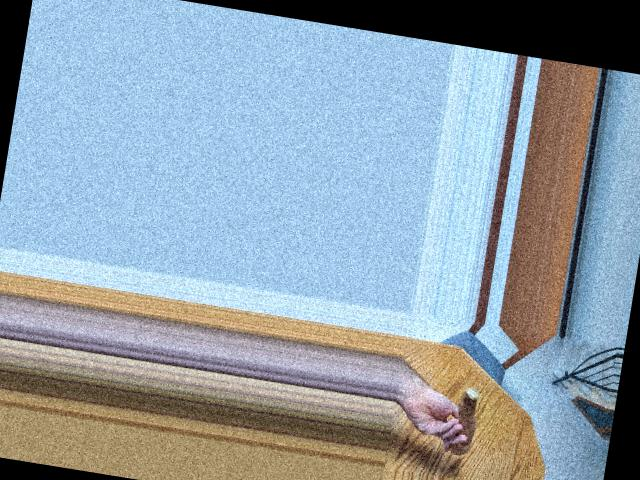sweet_potato: (443, 384, 482, 458)
